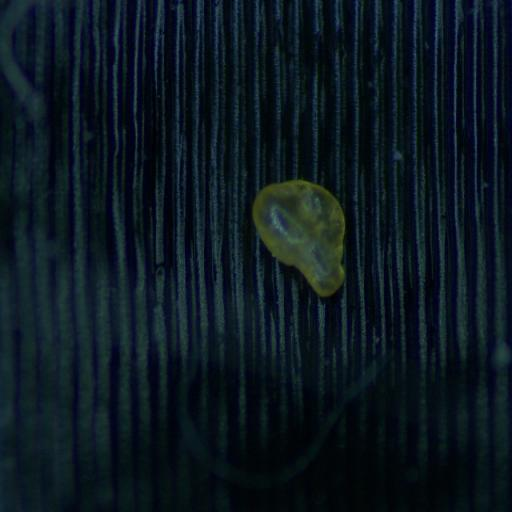mineral: (253, 179, 344, 294)
